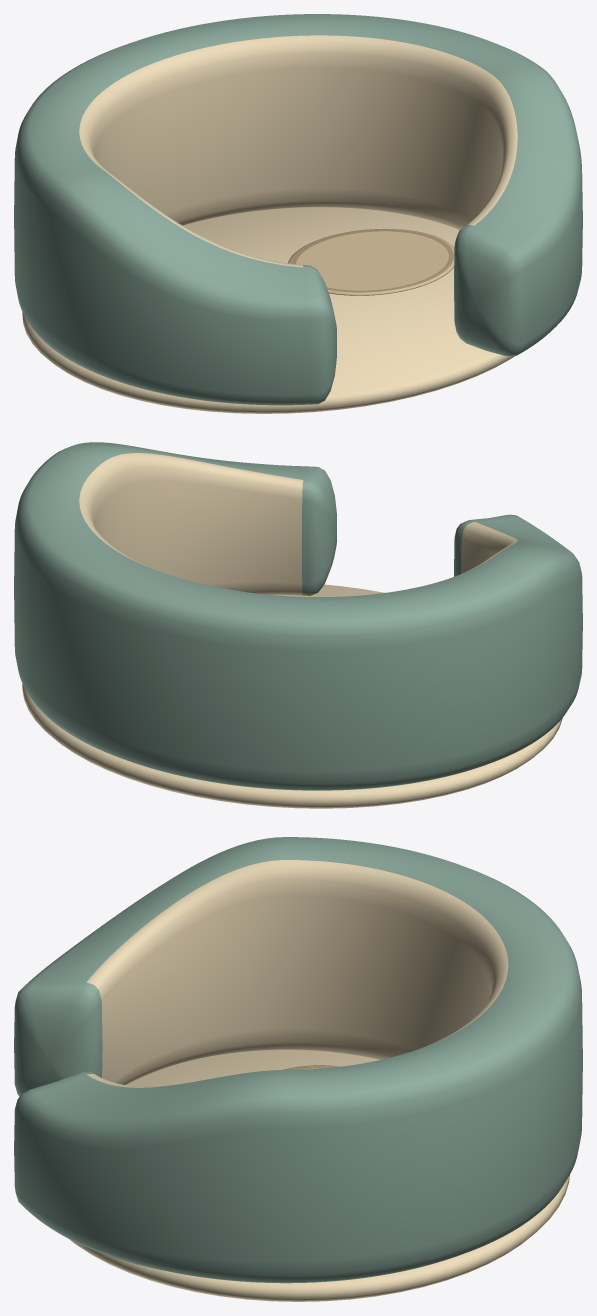
Rendered from building_nest_v03.glb.
3 renders of one model, top to bottom at view 1: azimuth 30°, elevation 25°; view 2: azimuth 150°, elevation 25°; view 3: azimuth 270°, elevation 25°, orthographic. The views are drawn at different scales.
Visible parts, largest first — view 1: nest_wall, nest_floor, nest_pad_b; view 2: nest_wall, nest_floor; view 3: nest_wall, nest_floor.
Boxes of the visible parts, x1,y1,x2,y2 form: nest_wall: (14, 14, 582, 405); nest_floor: (22, 207, 514, 413); nest_pad_b: (288, 229, 454, 295); nest_wall: (14, 442, 582, 790); nest_floor: (22, 584, 562, 808); nest_wall: (14, 837, 582, 1283); nest_floor: (69, 1050, 569, 1301).
Bounding box in the file's own units: 5.22 × 1.9 × 4.64.
